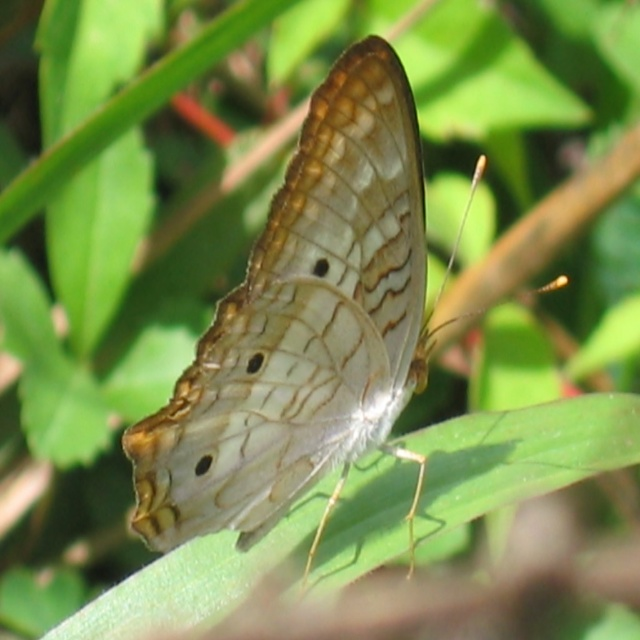Butterfly: (151, 47, 466, 529)
